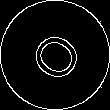O_SE: (22, 23, 88, 87)
